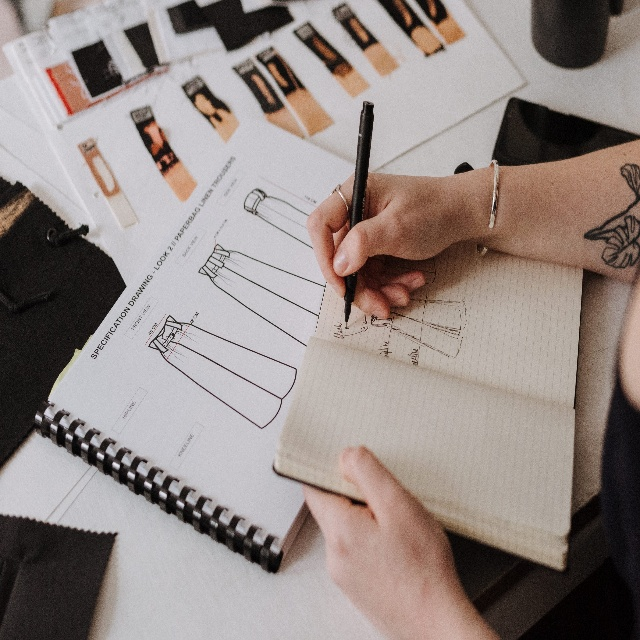Sin_guantes: (303, 443, 460, 640), (306, 172, 454, 320)
